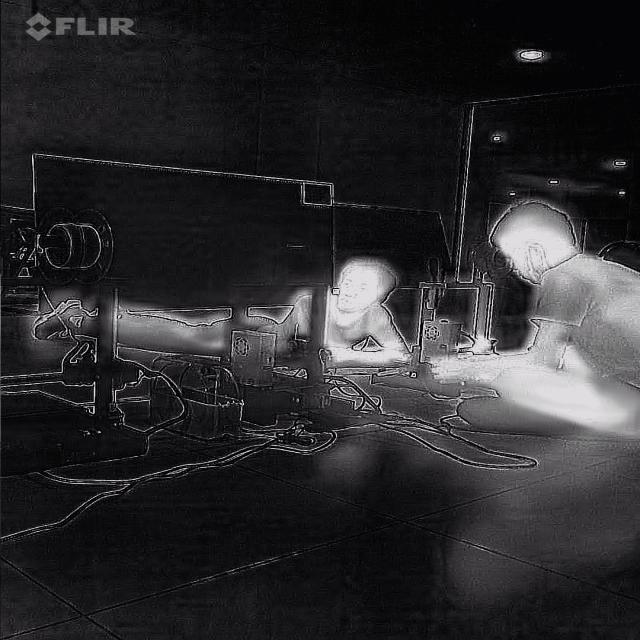Victim: (440, 188, 640, 465), (18, 254, 432, 376)
